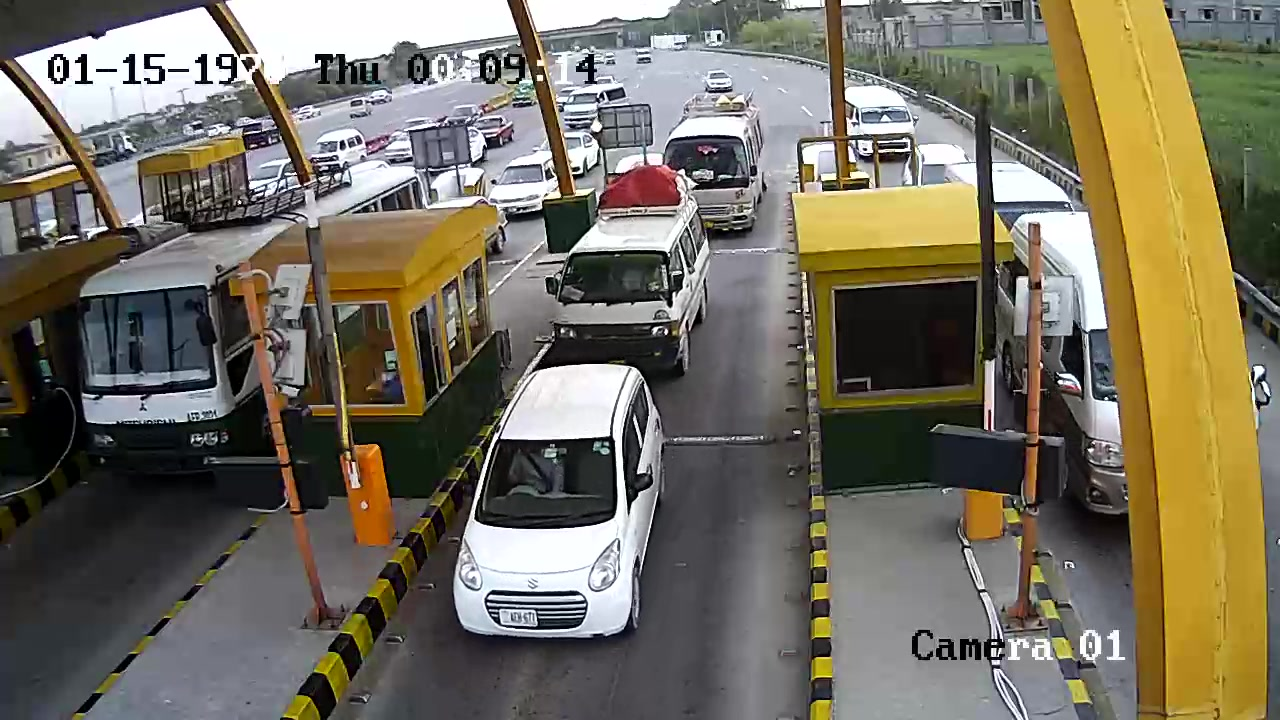F1: (430, 354, 679, 652)
